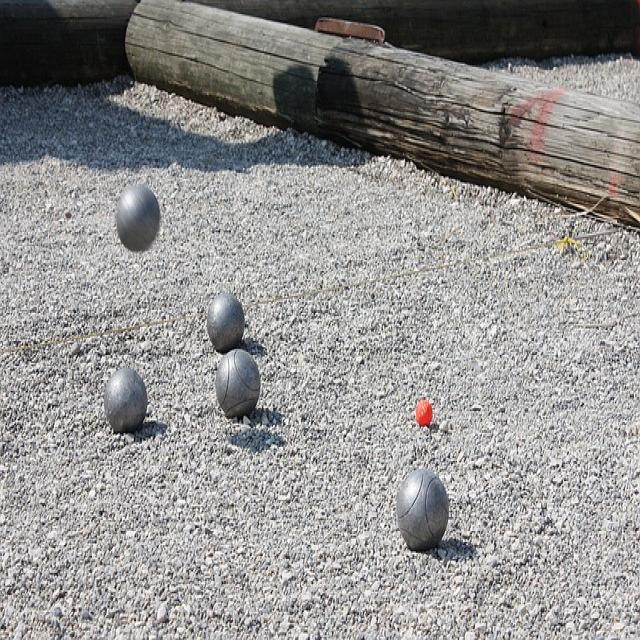hatball: (413, 389, 437, 429)
petanque: (379, 466, 452, 561), (102, 178, 170, 266), (99, 357, 154, 448), (197, 280, 253, 365), (212, 347, 265, 436)
